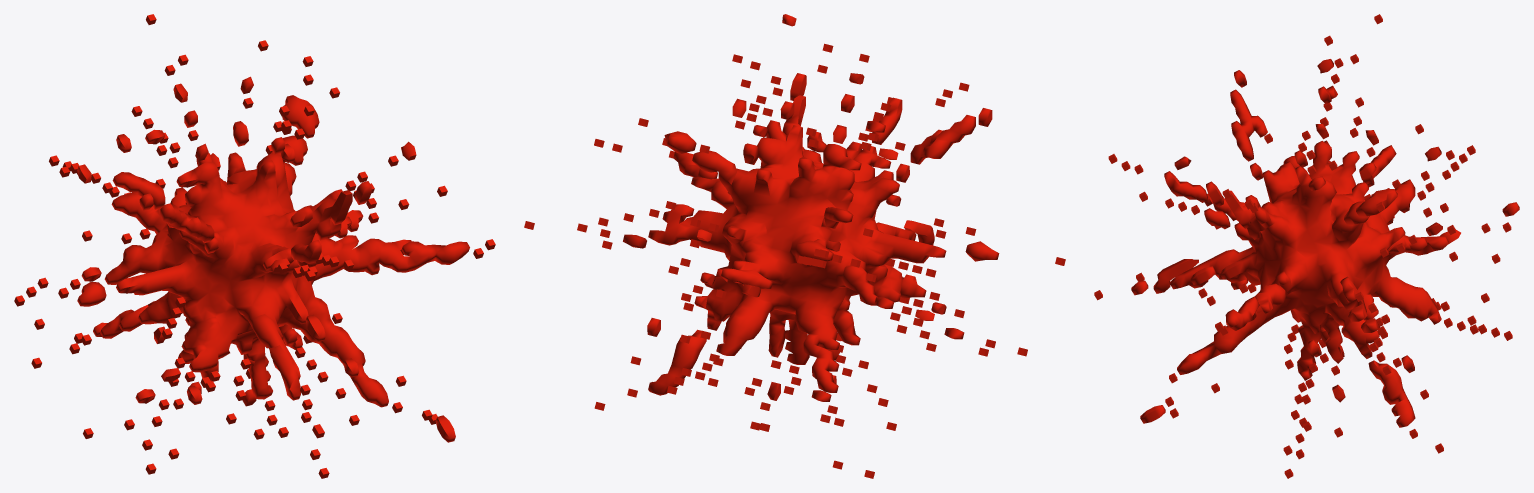
File: rotate.fbx
The picture shows the model from 3 angles, left to right: view 1: azimuth 30°, elevation 25°; view 2: azimuth 150°, elevation 25°; view 3: azimuth 270°, elevation 25°; orthographic projection. The views are drawn at different scales.
Parts seen in each view (by area): view 1: Volume_Mesher; view 2: Volume_Mesher; view 3: Volume_Mesher.
Part boxes in pixels (x1=…): Volume_Mesher: x1=14, y1=14, x2=495, y2=478; Volume_Mesher: x1=524, y1=14, x2=1065, y2=478; Volume_Mesher: x1=1094, y1=14, x2=1519, y2=478.
Bounding box in the file's own units: 43.42 × 39.82 × 37.56.
